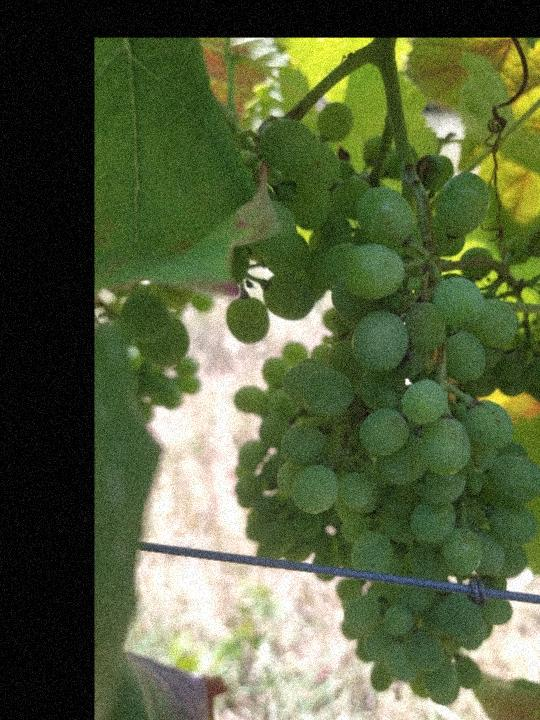grape: (226, 100, 540, 710)
